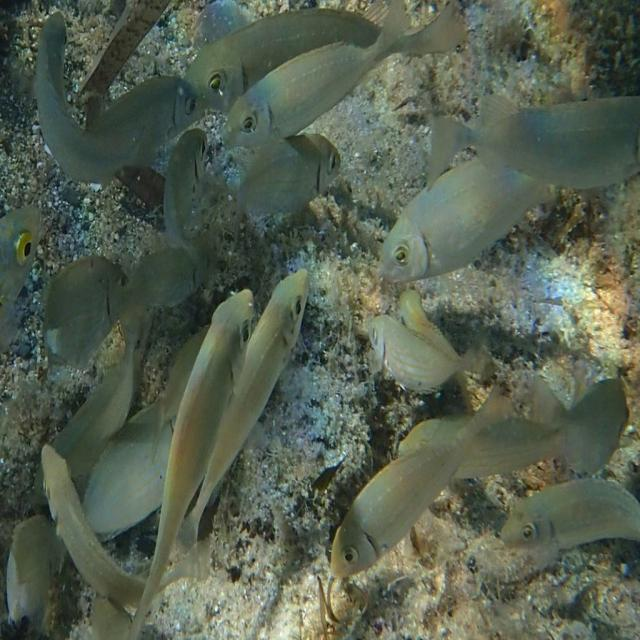Sokar Baligi: (316, 372, 525, 599), (495, 470, 640, 574)
